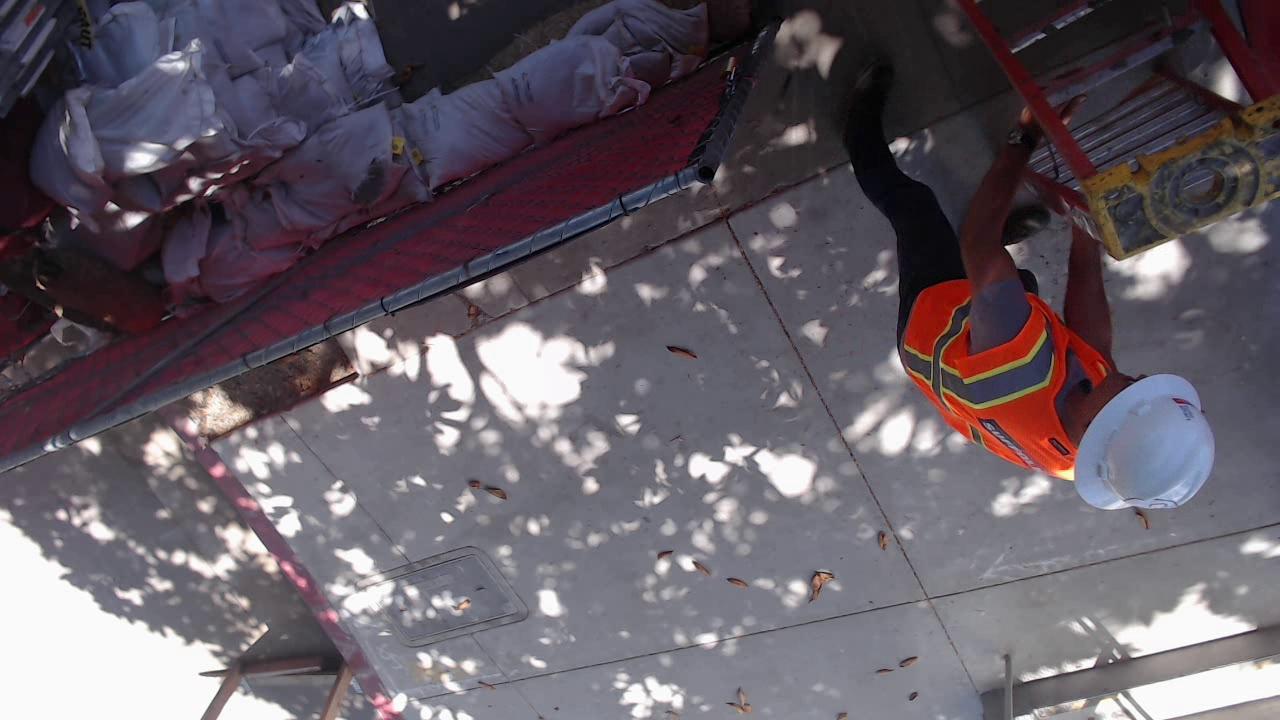hardhat: (276, 1, 431, 83)
person: (275, 1, 640, 290)
safetyvest: (407, 1, 566, 90)
